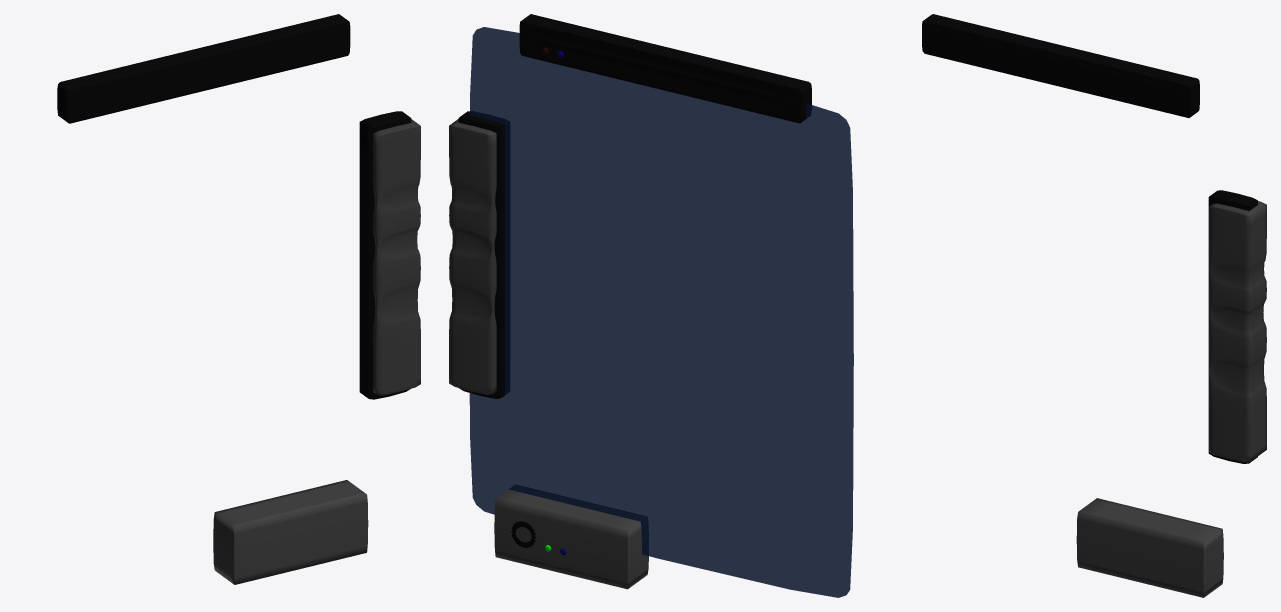
File: FinalClipboard.fbx
3 views of the same model, side by side, from view 1: azimuth 30°, elevation 25°; view 2: azimuth 150°, elevation 25°; view 3: azimuth 330°, elevation 25° (orthographic). The views are drawn at different scales.
Visible parts, largest first — view 1: group1_pasted__pCube1; view 2: group1_pasted__pCube1; view 3: group1_pasted__pCube1.
Boxes of the visible parts, <box> form: group1_pasted__pCube1: <box>57,14,420,584</box>; group1_pasted__pCube1: <box>449,14,853,597</box>; group1_pasted__pCube1: <box>922,14,1266,597</box>.
Size of the model in its own units: 4.35 by 5.6 by 0.4612.
